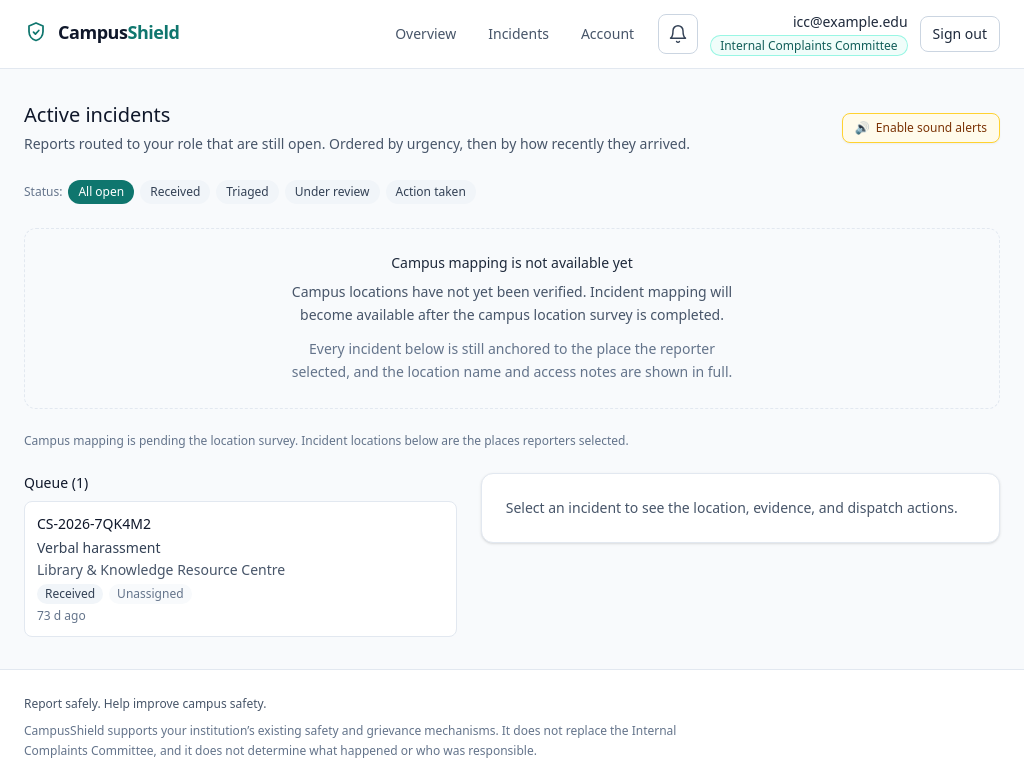
IncidentsPage — incident detail › opens the incident a responder selects
This screenshot has width=1024, height=762.
Click the button "CS-2026-7QK4M2". click: click(240, 569)
box: [24,501,457,637]
(page scrolled)
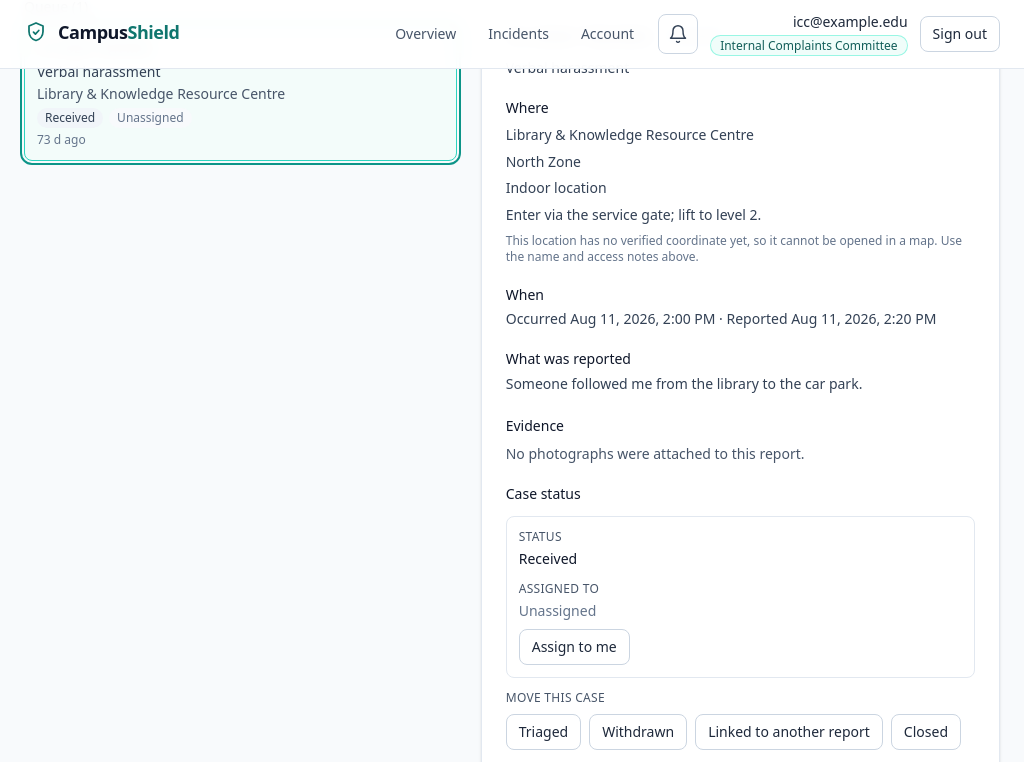
Expected: the heading "CS-2026-7QK4M2" is shown, [506,22,652,50]
Now the text "Someone followed me from the library to the car park." is shown, box [506,374,862,393]
